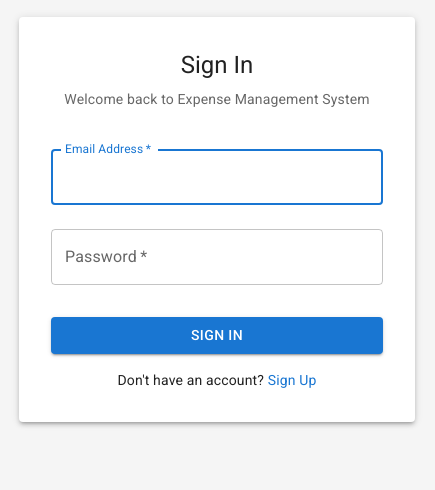
Test: LoginPage › should show validation error for invalid email format
This screenshot has width=435, height=490.
Type "invalid-email" into the field labelled "Email Address *" at (217, 177), box [51,149,383,205]
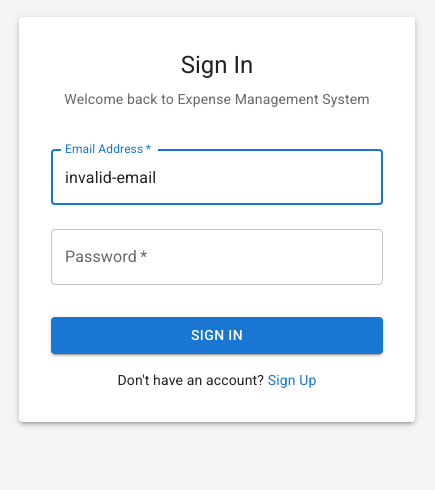
Click the button "Sign In" at (217, 336), box [51,317,383,354]
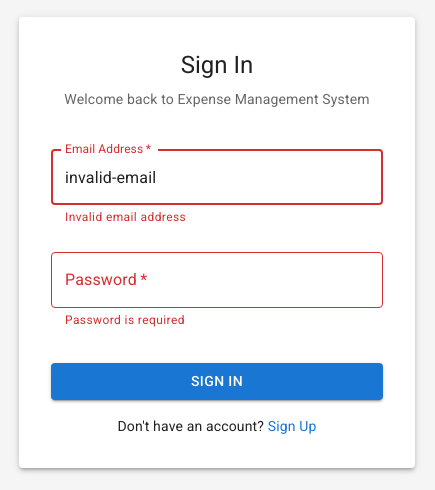
Expected: the text "Invalid email address" is shown, [65,210,186,224]
